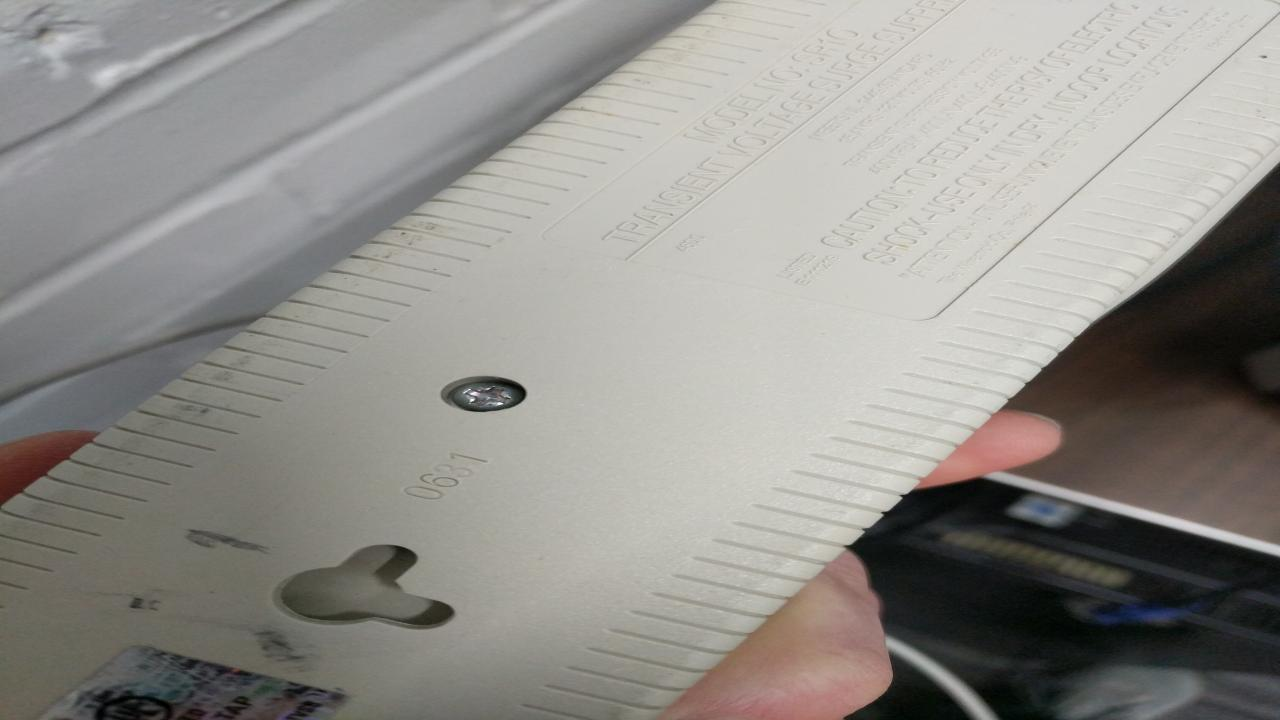CRS: (446, 378, 532, 413)
